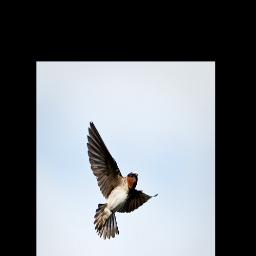Swallow: (86, 119, 159, 243)
